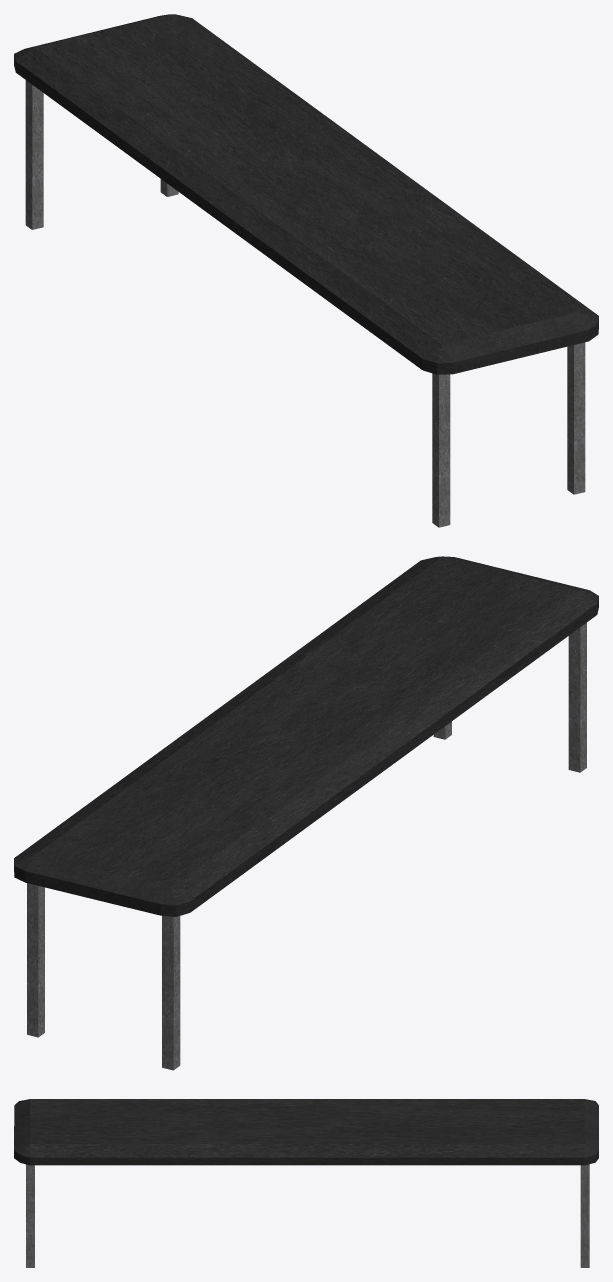
File: hospitalBrench.dae
3 renders of one model, top to bottom at view 1: azimuth 30°, elevation 25°; view 2: azimuth 150°, elevation 25°; view 3: azimuth 270°, elevation 25°, orthographic. The views are drawn at different scales.
Visible parts, largest first — view 1: Cube; view 2: Cube; view 3: Cube.
Boxes of the visible parts, x1,y1,x2,y2 form: Cube: (14,14,598,527); Cube: (14,556,598,1070); Cube: (14,1099,598,1267).
Bounding box in the file's own units: 2 × 8.43 × 1.94.
